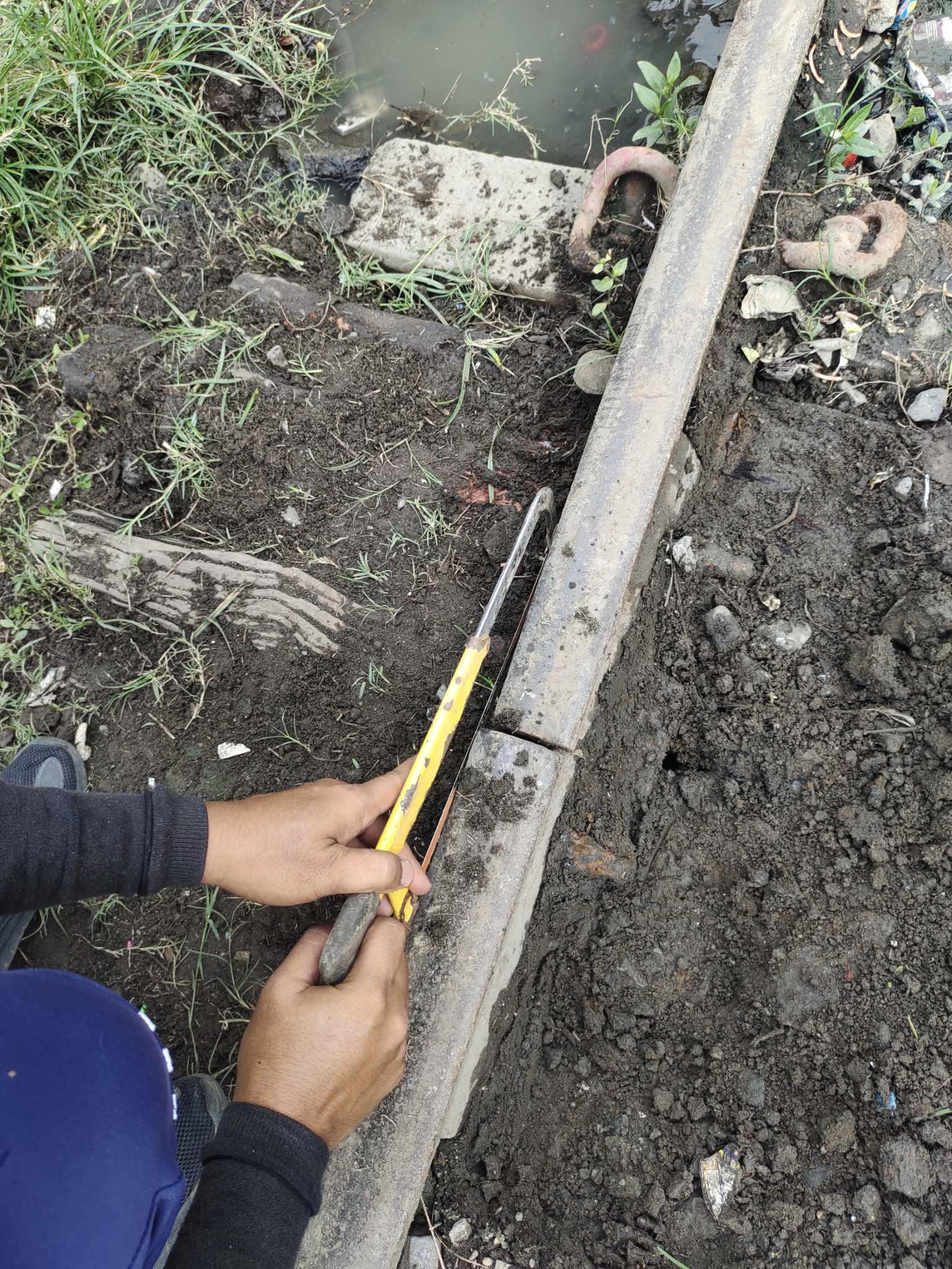railway-gap: (456, 675, 601, 807)
